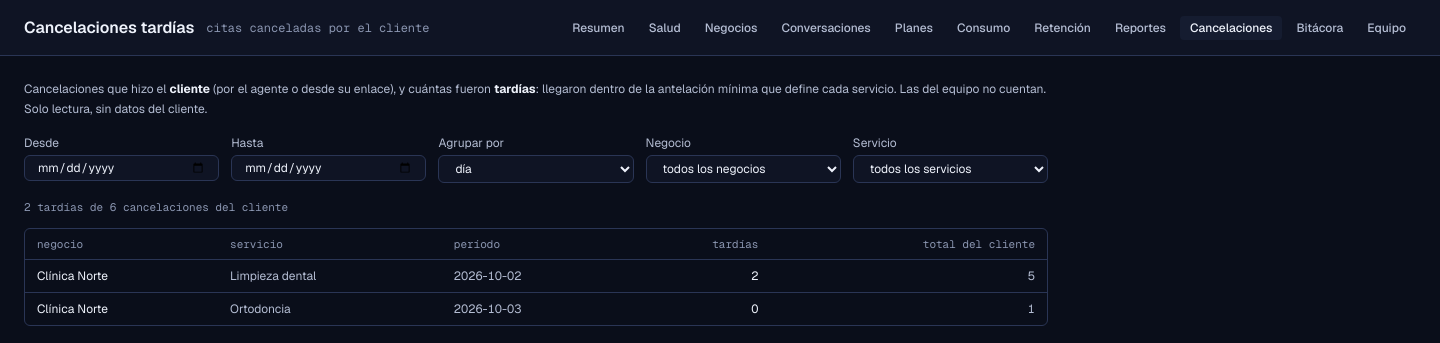
Test: CancelacionesPage › filtra por servicio sobre las filas ya cargadas
Step 1. Select "Ortodoncia" in the dropdown labelled "Servicio" → (950, 169), box [853,155,1048,183]
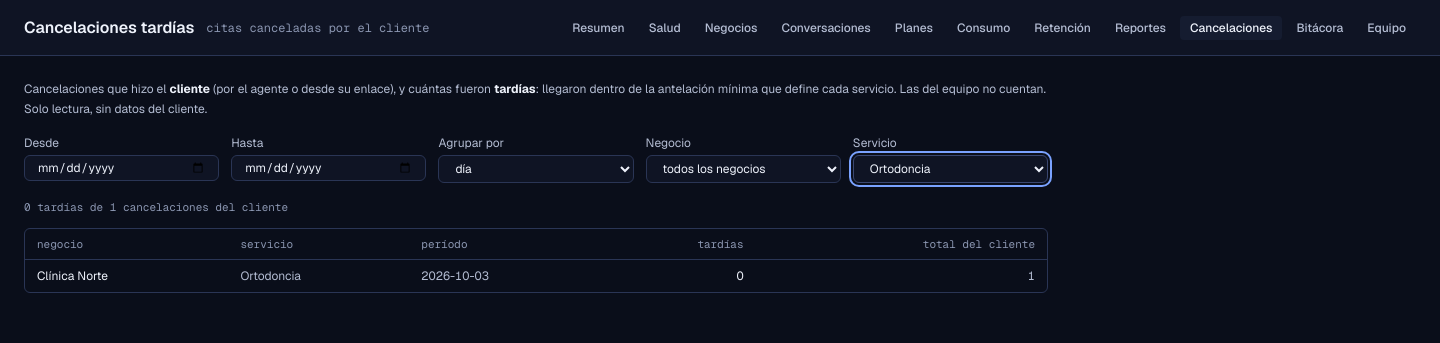
Check: the text "Ortodoncia" is shown, box [228,260,409,292]
Check: the text "Limpieza dental" is gone
